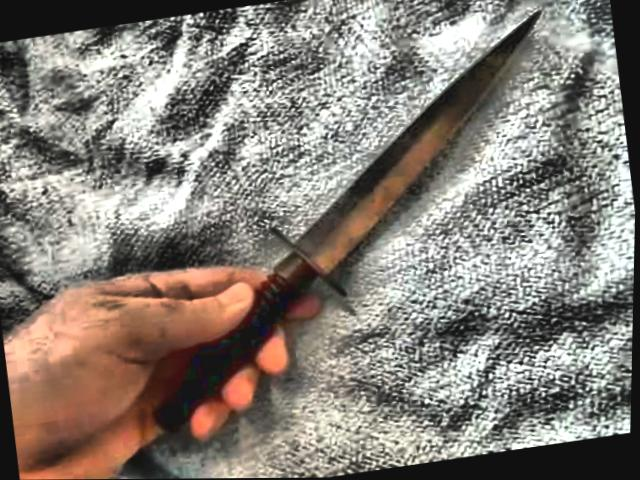knife: (156, 0, 604, 411)
